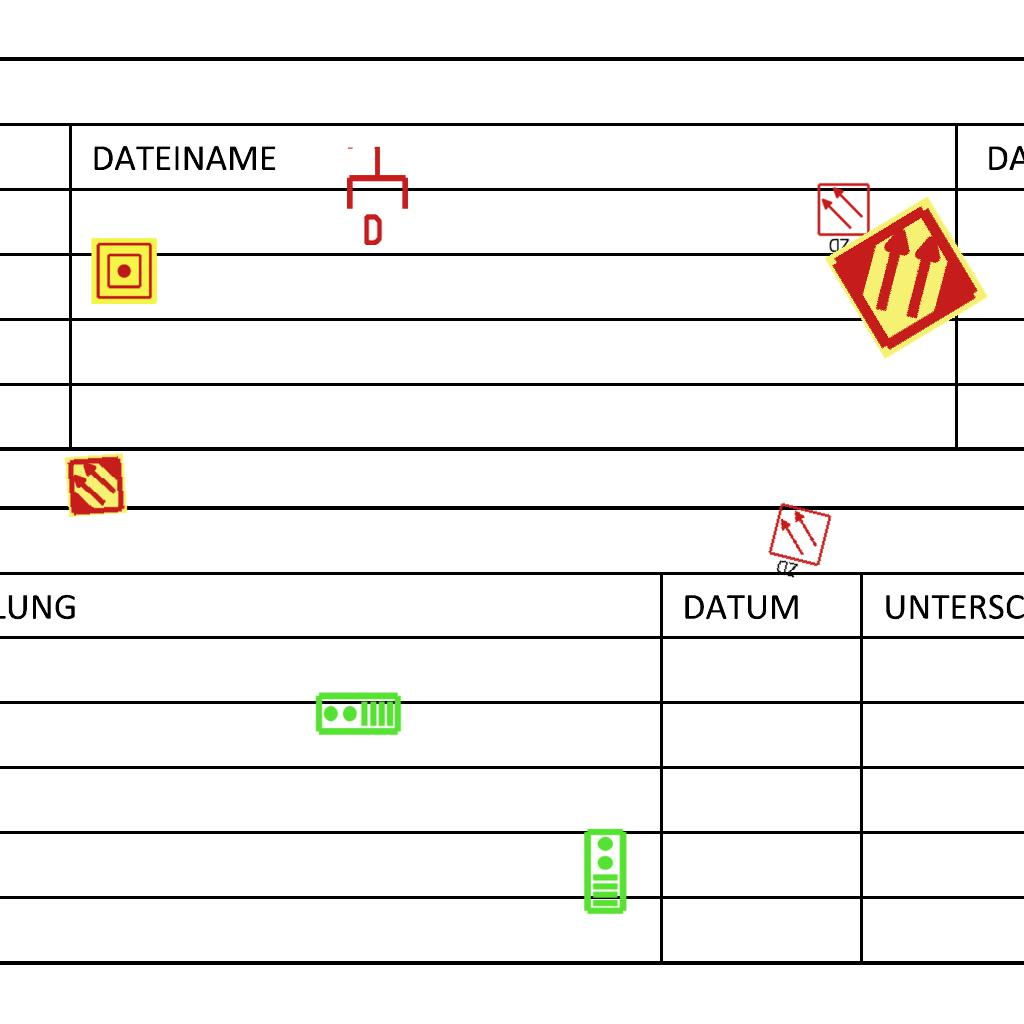ASR_Ansaugrauchmelder: (820, 191, 993, 364), (62, 451, 130, 519)
Datenanschluss_einfach: (343, 145, 412, 245)
Gegensprechanlage_mit_Video: (314, 691, 402, 738), (581, 827, 628, 915)
NAM-Nichtautomatischer_Melder: (91, 238, 157, 304)
ZD_Melder_in_Zwischendecke_mit_Revisionsoeffnung_mind_40_x_40_cm: (761, 501, 836, 587), (816, 182, 873, 256)
